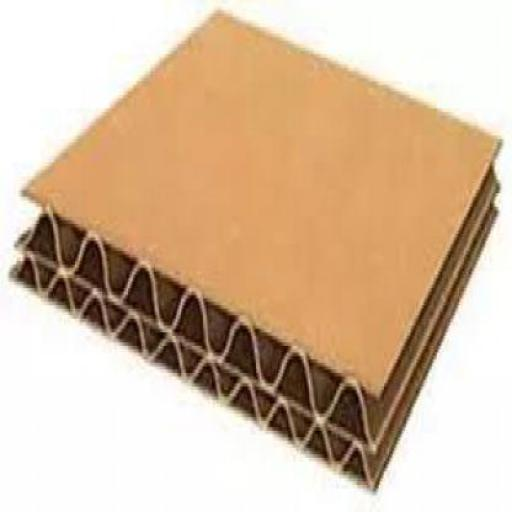cardboard: (5, 10, 500, 488)
